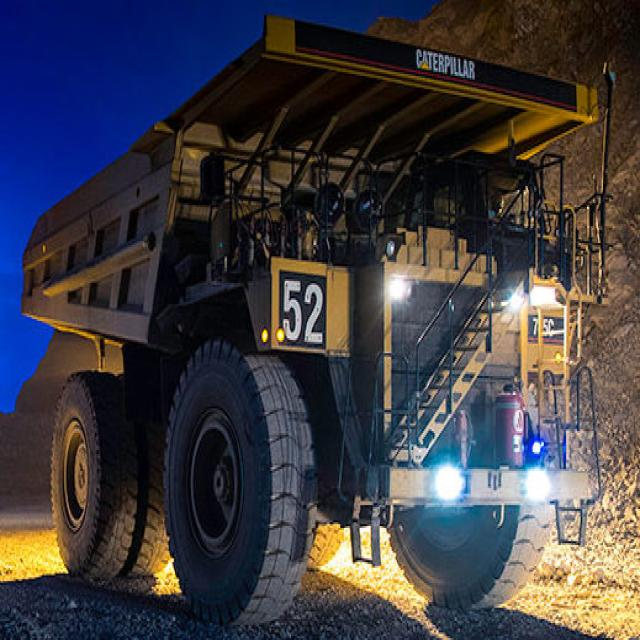dump_truck: (24, 19, 590, 615)
